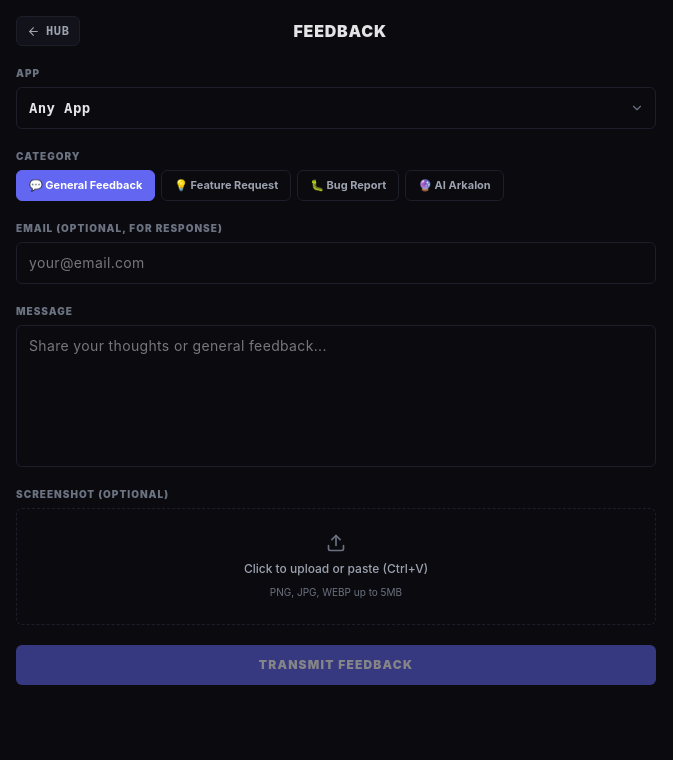
FeedbackPage › shows error state when submission fails
Type "Test message" into the text box. click: coordinates (336, 396)
box: [16, 324, 656, 466]
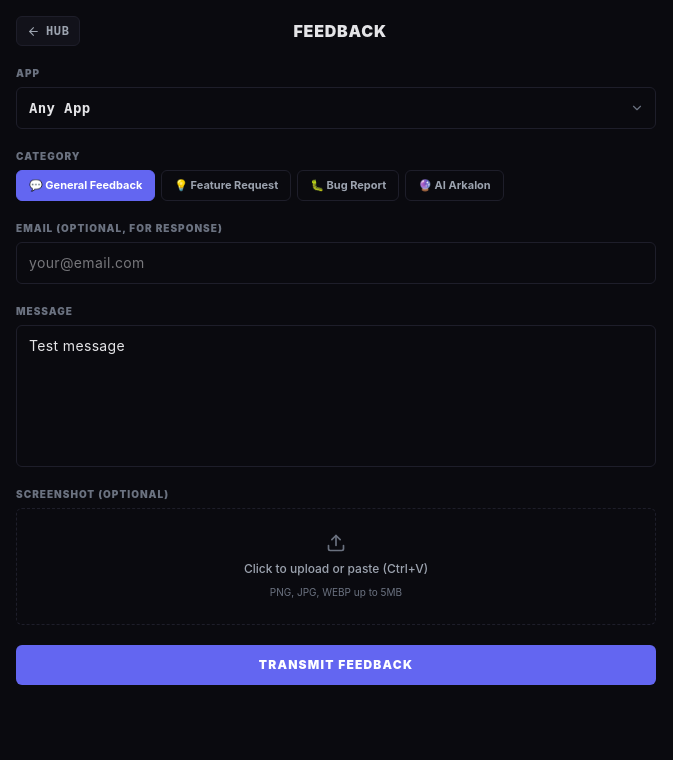
Click the button "TRANSMIT FEEDBACK". click: coordinates (336, 664)
box: [16, 644, 656, 684]
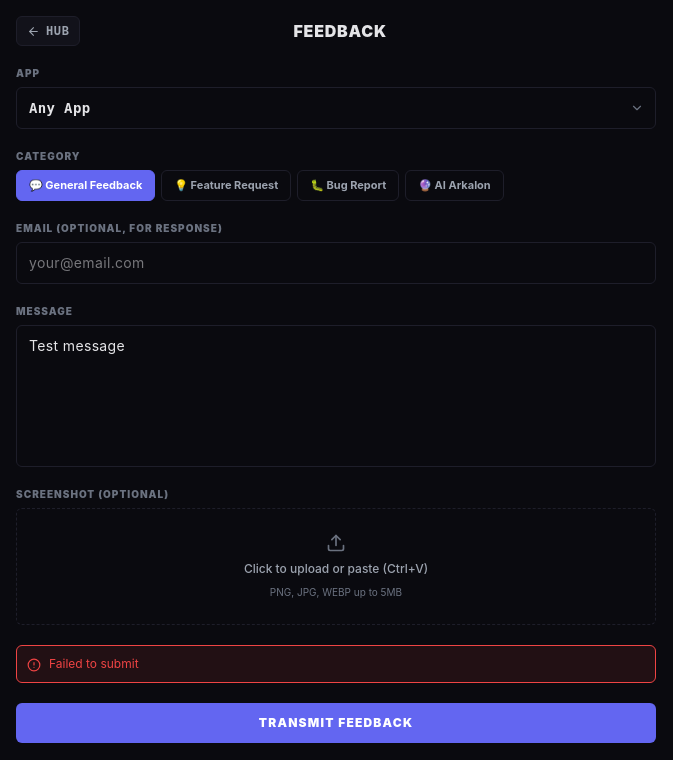
expect the text "Failed to submit" is shown: met, box [49, 656, 139, 672]
